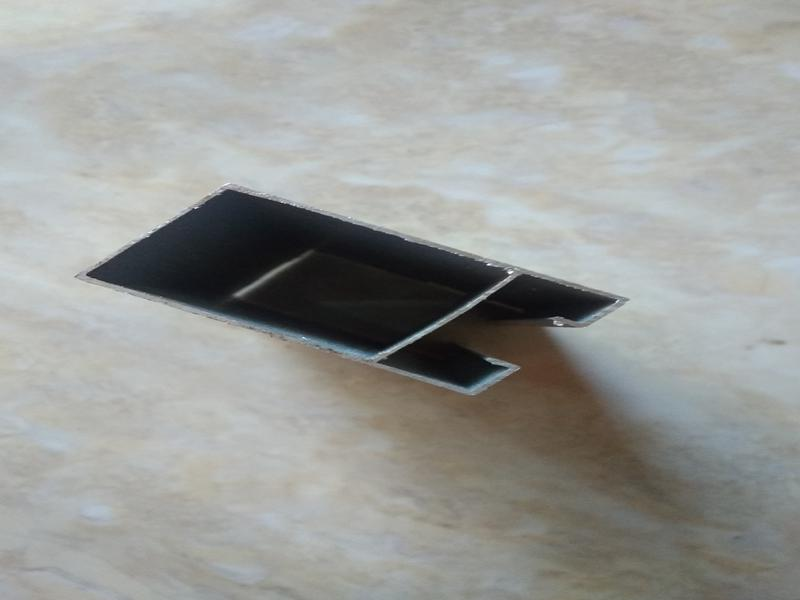Aluminium_1: (69, 149, 649, 435)
